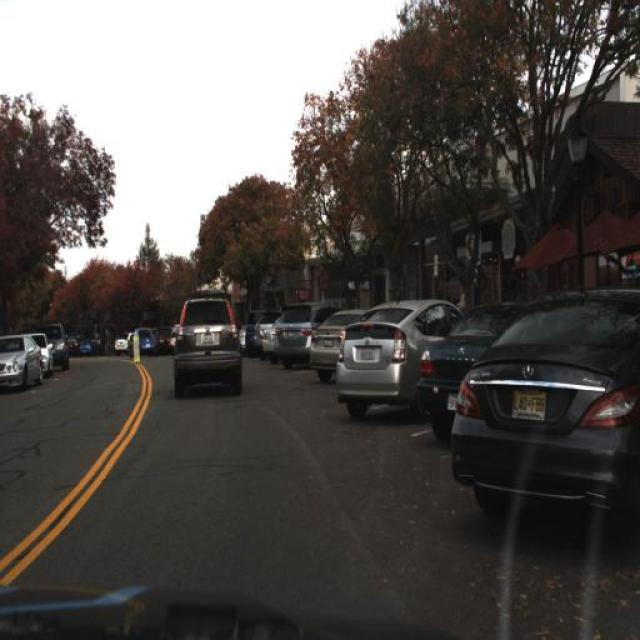car: (444, 287, 637, 553), (412, 302, 516, 439), (336, 292, 443, 411), (168, 292, 242, 398), (274, 297, 330, 373), (310, 304, 354, 384), (273, 304, 329, 361), (0, 333, 42, 387), (42, 324, 72, 371), (30, 329, 54, 376), (251, 305, 273, 353), (260, 316, 282, 362), (242, 310, 262, 358), (258, 316, 280, 352), (131, 328, 155, 358)
